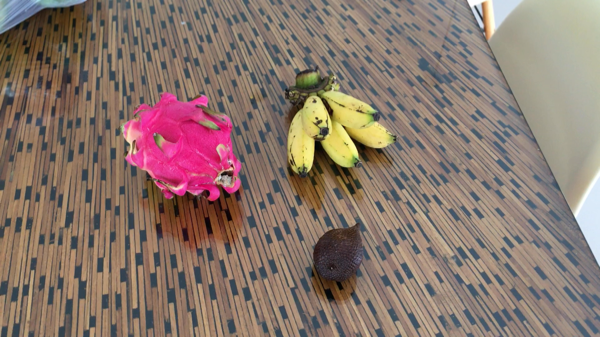banana: (282, 66, 394, 173)
dragon fruit: (122, 96, 242, 203)
snake fruit: (315, 225, 370, 278)
